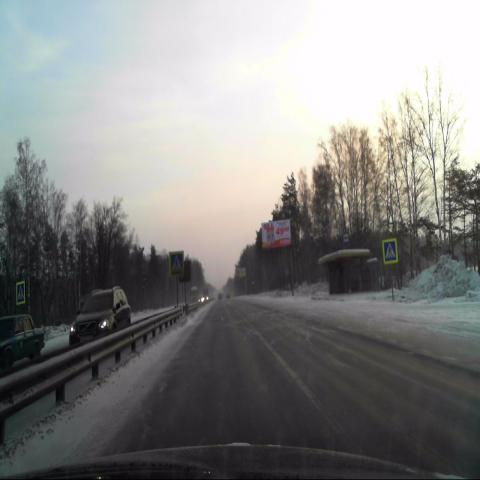5_19_1: (382, 238, 397, 262)
